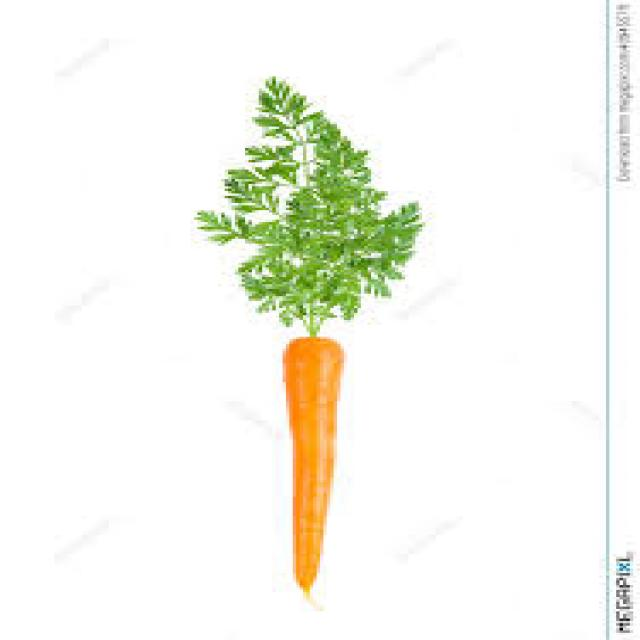organic waste: (190, 74, 418, 334), (276, 334, 340, 595)
